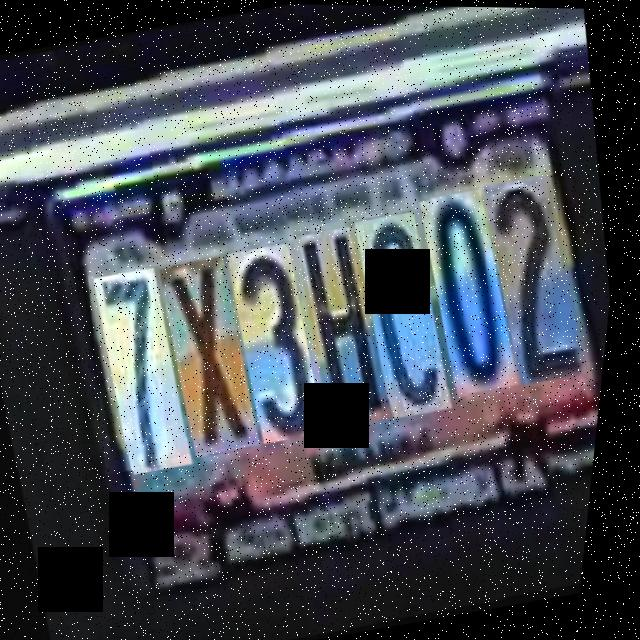2: (467, 171, 600, 390)
3: (210, 237, 339, 446)
7: (78, 261, 207, 475)
C: (337, 207, 466, 422)
H: (278, 222, 406, 432)
O: (402, 186, 535, 400)
X: (142, 251, 274, 458)
